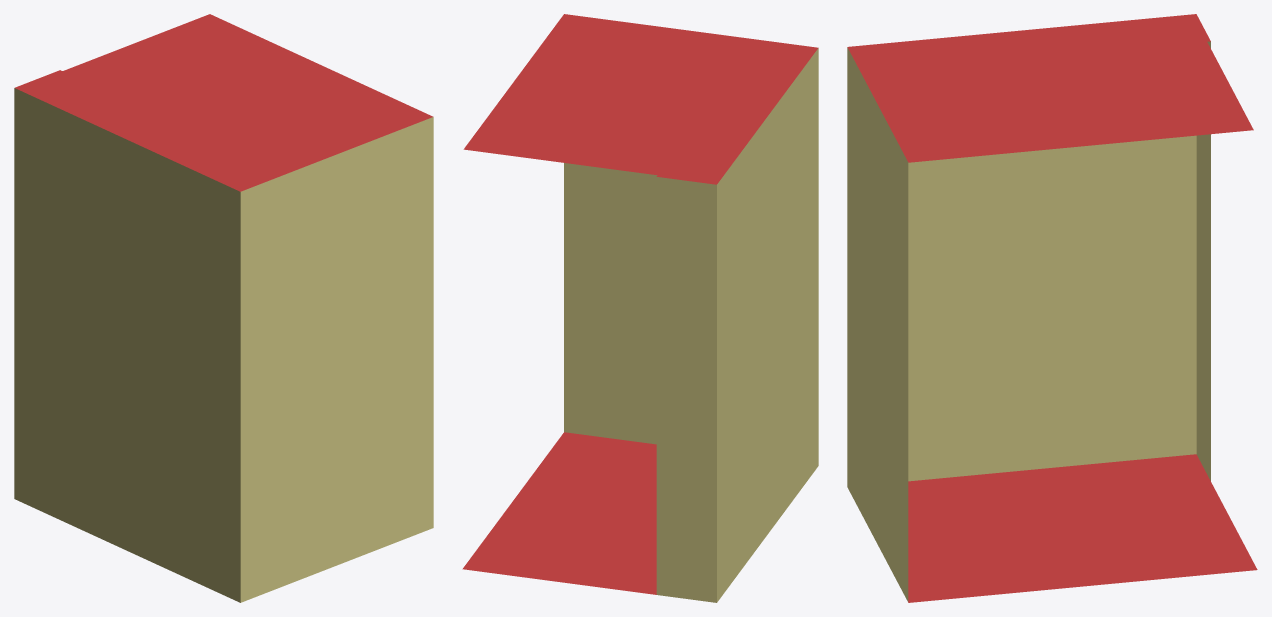
3 renders of one model, left to right at view 1: azimuth 30°, elevation 25°; view 2: azimuth 150°, elevation 25°; view 3: azimuth 270°, elevation 25°, orthographic. The views are drawn at different scales.
Size of the model in its own units: 5.15 by 6.01 by 7.11.
